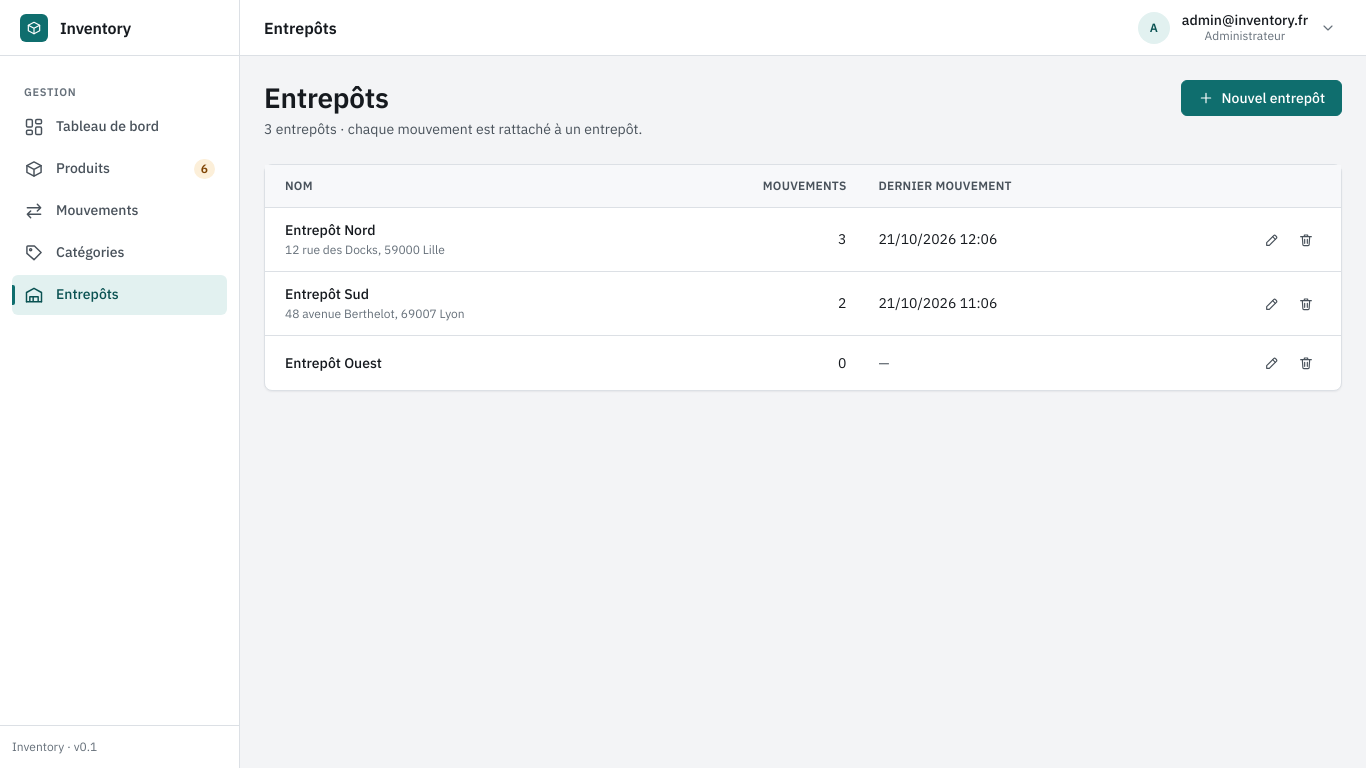
WarehousesPage › create and edit › adds an address to a warehouse that has none
The image size is (1366, 768).
Expected: the heading "Entrepôts" is shown, 264,79 -> 389,116
Click the button named "Modifier Entrepôt Ouest" at (1272, 363), box 1257,348 -> 1287,378
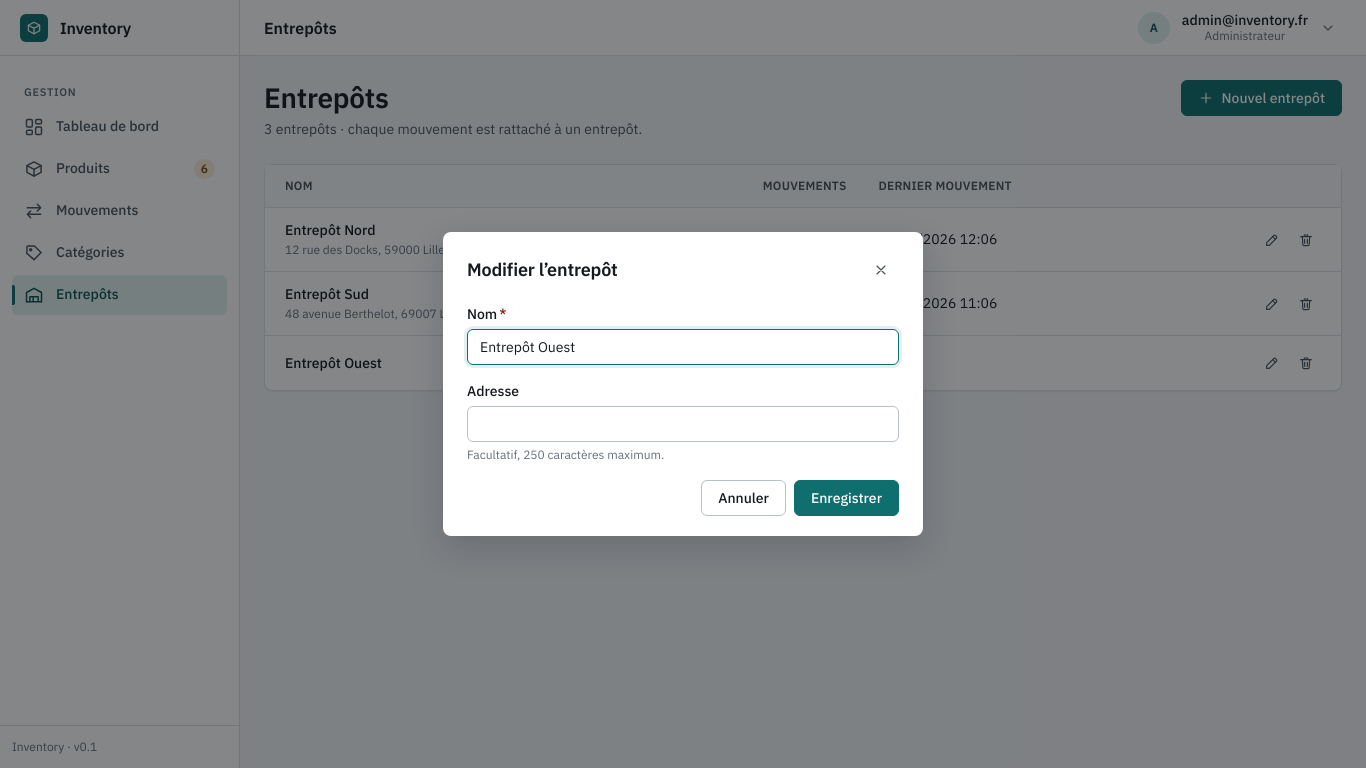
Type "5 rue de Brest, 35000 Rennes" into the field labelled "Adresse" at (683, 424), box 467,406 -> 899,442
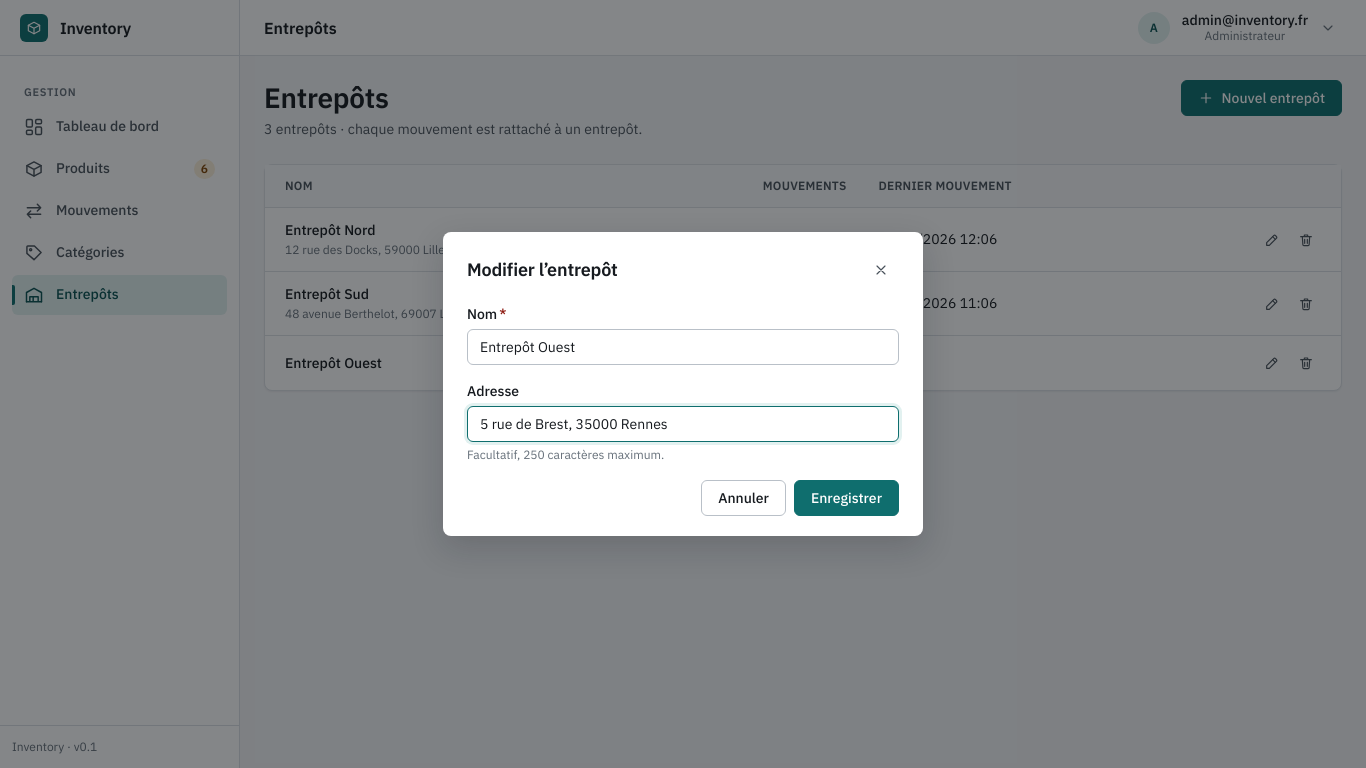
Click the button "Enregistrer" at (846, 498), box 794,480 -> 899,516
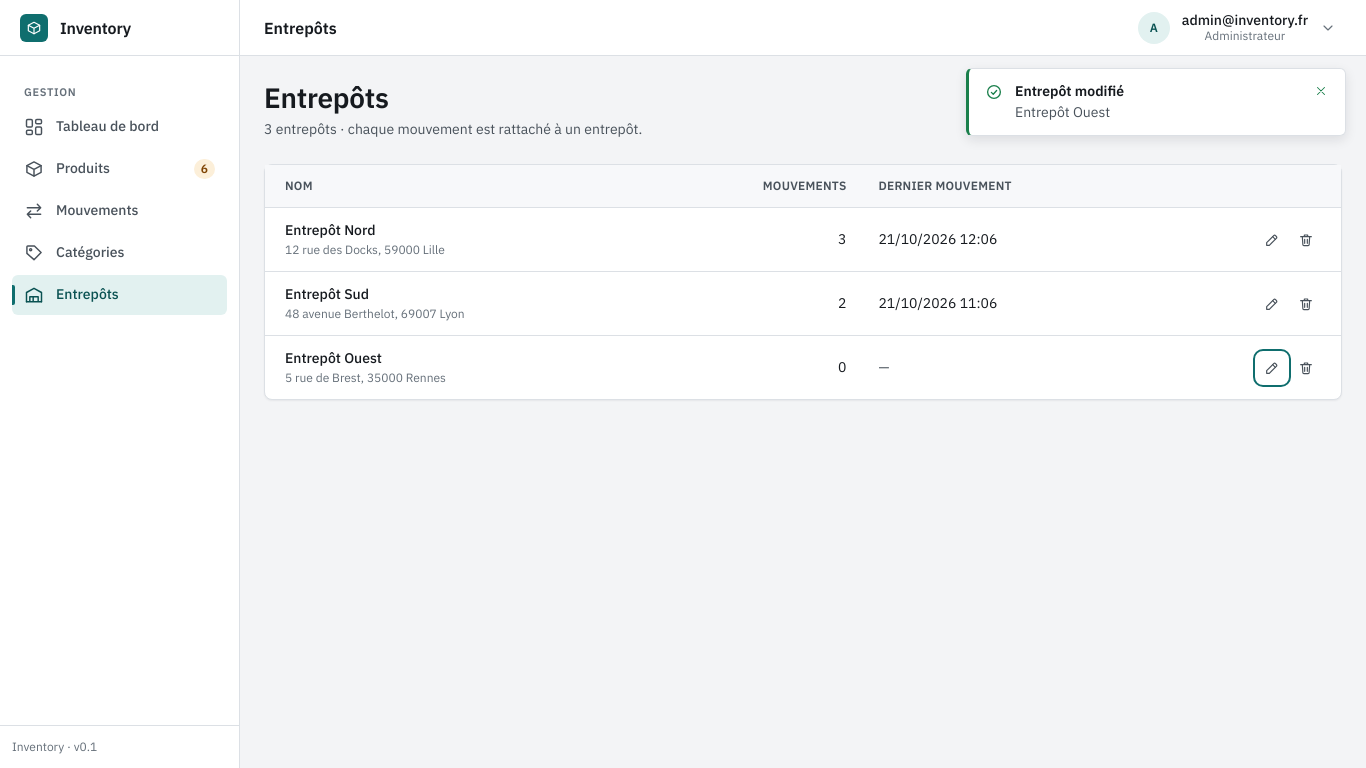
Result: the text "5 rue de Brest, 35000 Rennes" is shown at 285,370 -> 446,385
